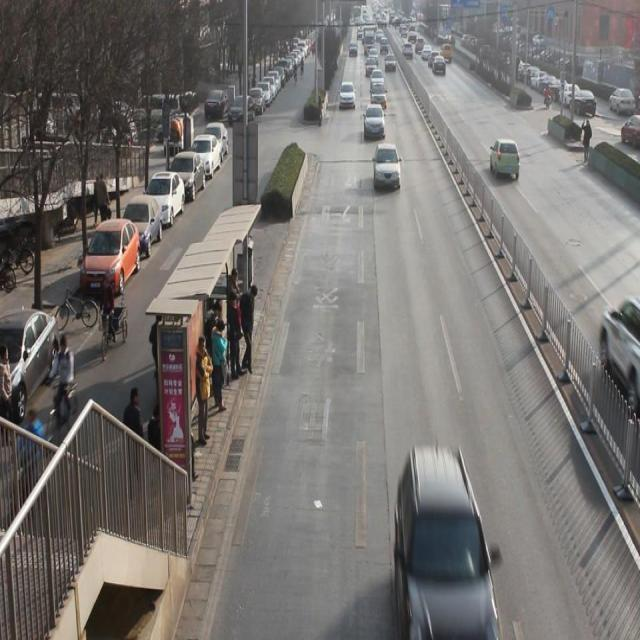car: (395, 449, 502, 640), (601, 296, 640, 424), (488, 135, 522, 183), (372, 143, 403, 194), (364, 105, 387, 140), (339, 80, 358, 111), (368, 83, 388, 107)
